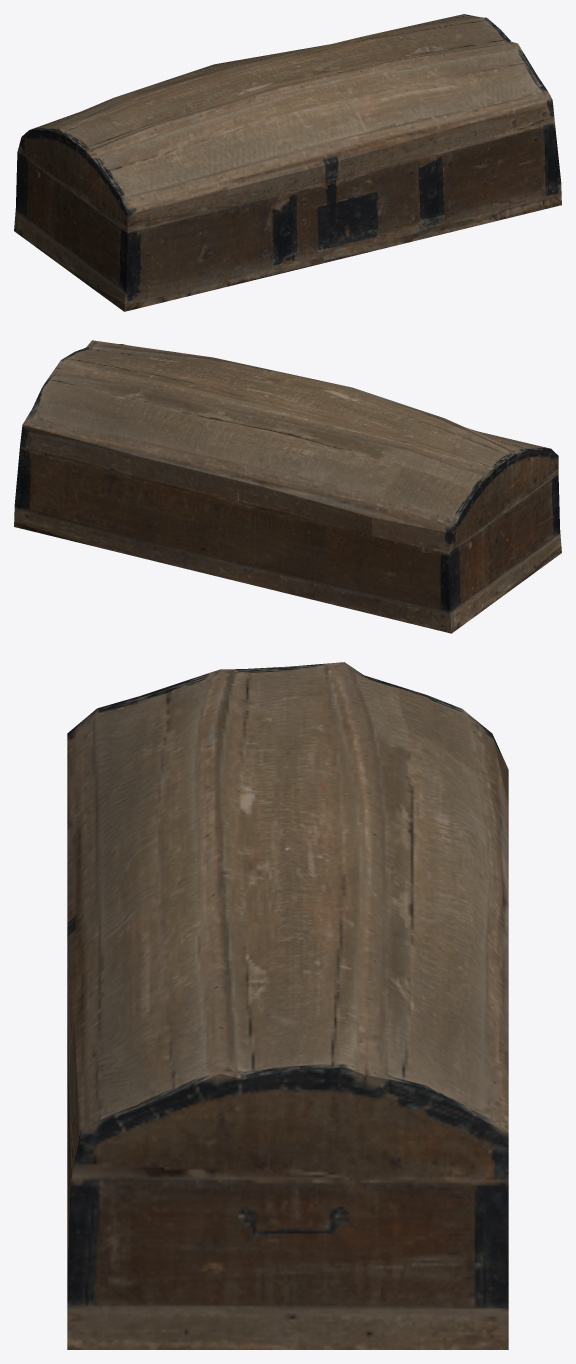
File: OU_AR_Wooden_Chest_01_D.fbx
3 renders of one model, top to bottom at view 1: azimuth 30°, elevation 25°; view 2: azimuth 150°, elevation 25°; view 3: azimuth 270°, elevation 25°, orthographic. The views are drawn at different scales.
Visible parts, largest first — view 1: Chest; view 2: Chest; view 3: Chest.
Boxes of the visible parts, x1,y1,x2,y2 form: Chest: (14, 14, 561, 311); Chest: (14, 340, 561, 633); Chest: (67, 662, 508, 1349).
Bounding box in the file's own units: 112 × 36.89 × 48.89.
Materials: 1 (1 with a texture image).
